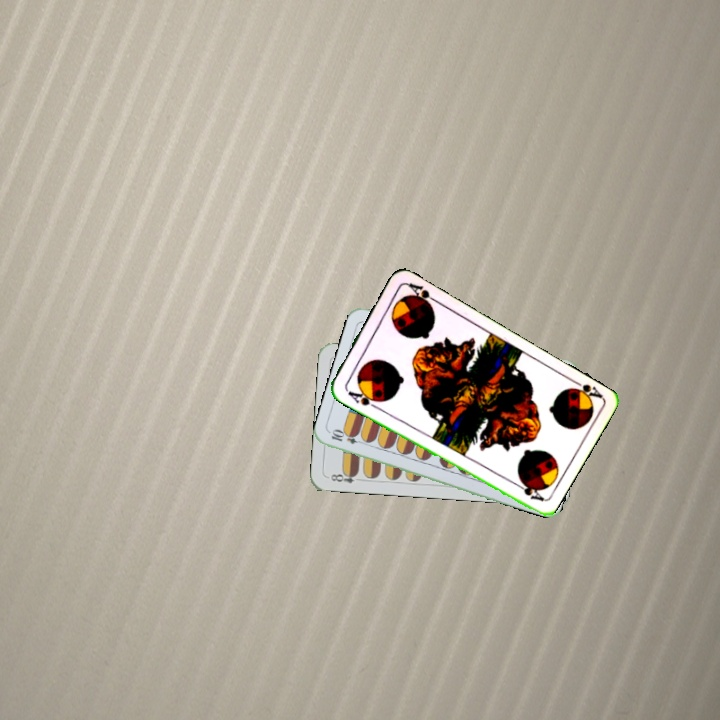E10: (327, 427, 368, 447)
E8: (326, 468, 365, 486)
SA: (563, 375, 605, 406), (342, 385, 382, 411)
